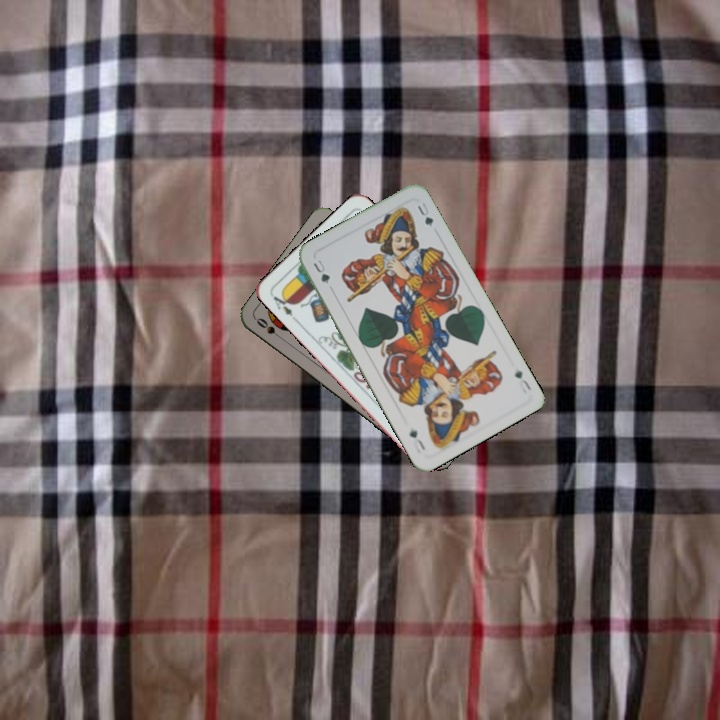EA: (268, 288, 300, 323)
GU: (309, 255, 333, 287), (511, 365, 534, 394)
SO: (252, 313, 287, 343)
